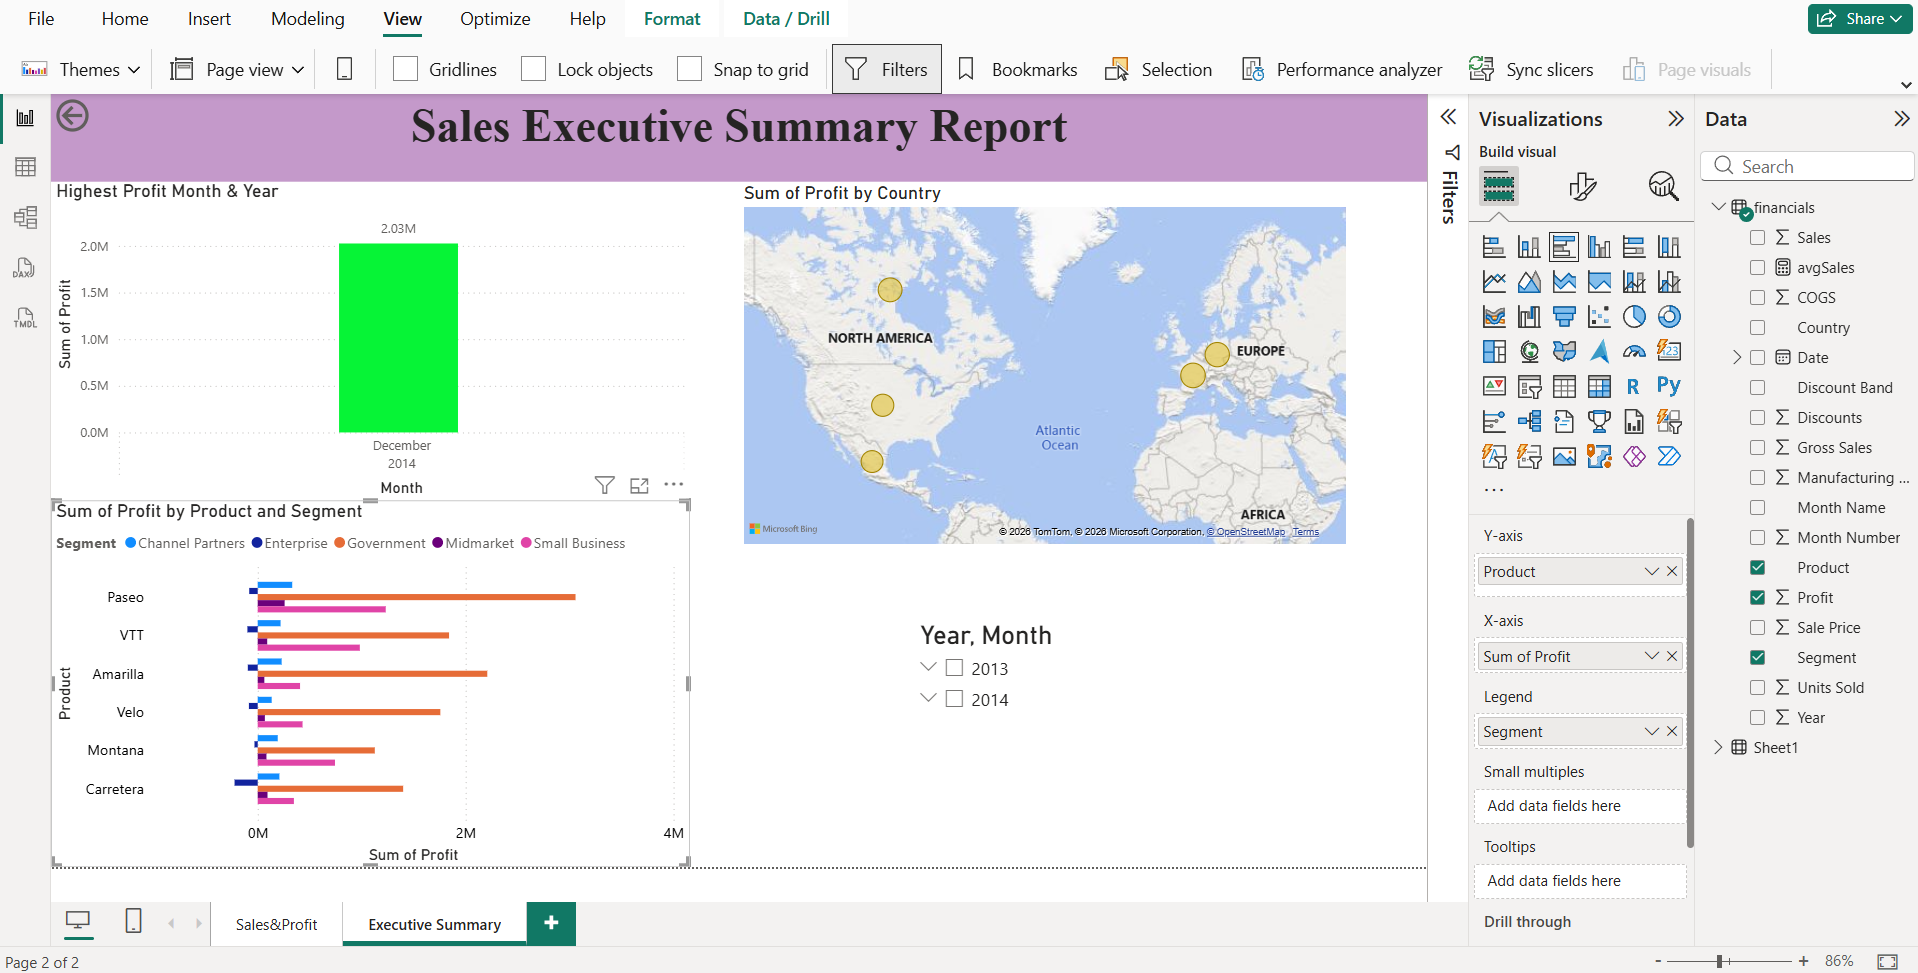

The page's visual inventory and layout, read from the dashboard file:
{"tool":"powerbi","page":{"name":"Executive Summary","canvas":[1280,720],"ordinal":1},"visuals":[{"type":"clusteredColumnChart","title":"Highest Profit Month & Year","fields":{"Y":["Sum(financials.Profit)"],"Category":["financials.Date.Variation.Date Hierarchy.Year","financials.Date.Variation.Date Hierarchy.Month"]},"box":[0,80.7,594.3,299.6],"z":1000},{"type":"map","fields":{"Category":["financials.Country"],"Size":["Sum(financials.Profit)"]},"box":[640,81.2,570,342.5],"z":2000},{"type":"textbox","box":[0,0,1280,81.2],"z":2500},{"type":"actionButton","box":[0,0,100,40],"z":3000},{"type":"clusteredBarChart","fields":{"Category":["financials.Product"],"Y":["Sum(financials.Profit)"],"Series":["financials.Segment"]},"box":[0,377.9,594.3,342.4],"z":4000},{"type":"slicer","fields":{"Values":["financials.Date.Variation.Date Hierarchy.Year","financials.Date.Variation.Date Hierarchy.Month"]},"box":[794.8,485.5,402.3,137],"z":5000}]}

Visuals, with their boxes on the page's 1280x720 design canvas (x1, y1, x2, y2). These are canvas units, not pixel positions in the 1918x973 screenshot, which may show the page scaled, cropped or inside an application window:
"Highest Profit Month & Year" clusteredColumnChart: 0:81:594:380
map - financials.Country x Sum(financials.Profit): 640:81:1210:424
textbox: 0:0:1280:81
actionButton: 0:0:100:40
clusteredBarChart - financials.Product x Sum(financials.Profit): 0:378:594:720
slicer - financials.Date.Variation.Date Hierarchy.Year x financials.Date.Variation.Date Hierarchy.Month: 795:486:1197:622
